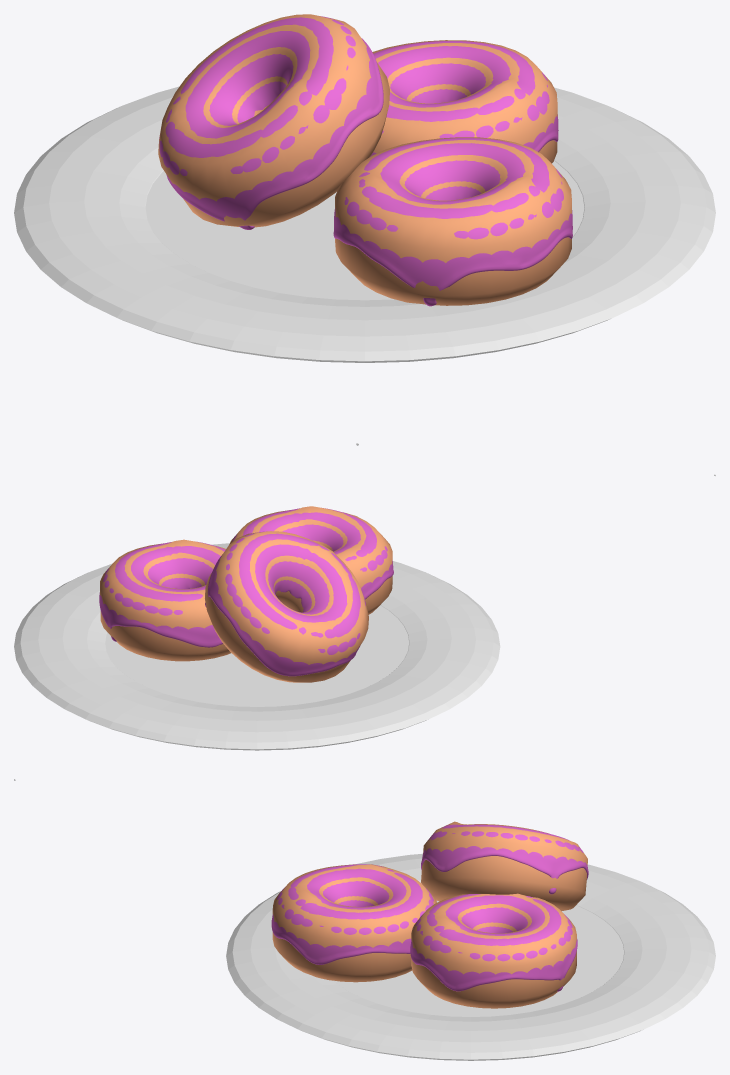
The model's file is donut.glb.
The picture shows the model from 3 angles, top to bottom: view 1: azimuth 30°, elevation 25°; view 2: azimuth 150°, elevation 25°; view 3: azimuth 270°, elevation 25°; orthographic projection. The views are drawn at different scales.
Visible parts, largest first — view 1: Torus, Torus.001, Torus.003, upper layer, upper layer.002, Cylinder, upper layer.001, Torus.002; view 2: Torus, Cylinder, Torus.001, upper layer, Torus.002, upper layer.001, upper layer.002, Torus.003; view 3: Torus, Torus.002, Torus.003, Torus.001, upper layer.001, Cylinder, upper layer.002, upper layer.
Part boxes in pixels (<box>): Torus: <box>14,86,715,362</box>; Torus.001: <box>158,14,389,227</box>; Torus.003: <box>335,137,571,305</box>; upper layer: <box>159,16,383,229</box>; upper layer.002: <box>333,138,572,306</box>; Cylinder: <box>145,161,584,300</box>; upper layer.001: <box>370,41,558,156</box>; Torus.002: <box>372,40,557,163</box>; Torus: <box>14,543,500,750</box>; Cylinder: <box>105,605,409,706</box>; Torus.001: <box>205,531,368,682</box>; upper layer: <box>205,531,365,676</box>; Torus.002: <box>100,539,230,661</box>; upper layer.001: <box>99,541,225,647</box>; upper layer.002: <box>232,508,393,599</box>; Torus.003: <box>229,506,392,614</box>; Torus: <box>226,853,715,1060</box>; Torus.002: <box>411,893,576,1008</box>; Torus.003: <box>272,864,436,982</box>; Torus.001: <box>421,821,587,911</box>; upper layer.001: <box>410,894,577,991</box>; Cylinder: <box>334,901,623,1016</box>; upper layer.002: <box>271,864,433,964</box>; upper layer: <box>421,824,588,894</box>.
Size of what is drawn, in the model's own units: 0.4445 by 0.1254 by 0.6059.
2 materials, 1 textured.
